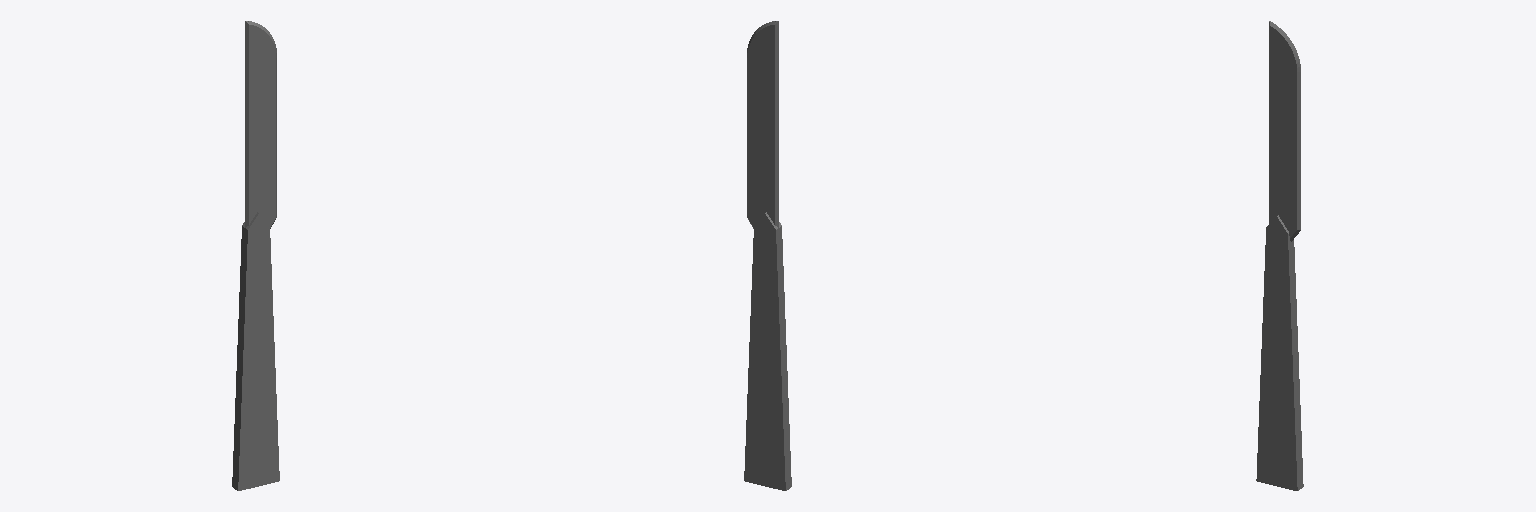
robot.urdf — knife:
<robot name="knife">
  <link name="knife">
    <visual>
      <origin rpy="0 0 0" xyz="0 0 -0.075"/>
      <!-- inertia correct!!! -->
      <inertial>
       <origin rpy="0 0 0" xyz="0.0 0 0"/>
       <mass value="0.5"/>
       <inertia ixx="0" ixy="0" ixz="0" iyy="0" iyz="0" izz="0"/>
    </inertial>
      <geometry>
        <mesh filename="knife.dae.obj"/>
      </geometry>
      <material name="c">
        <color rgba="0.5 0.5 0.5 1.0" />
      </material>
    </visual>
    <collision>
      <geometry>
        <mesh filename="knife.dae.obj"/>
        <!--<cylinder radius="0.0015" length="0.1"></cylinder>-->
      </geometry>
    </collision>
  </link>
</robot>

--- What the picture shows (computed from the rendered views, not written in the file) ---
The picture shows the robot from 3 angles, left to right: view 1: azimuth 30°, elevation 25°; view 2: azimuth 150°, elevation 25°; view 3: azimuth 330°, elevation 25°; orthographic projection.
Model knife with 1 links and 0 joints (none), rooted at knife, posed every joint at zero.
Visible links, largest first — view 1: knife; view 2: knife; view 3: knife.
Link boxes in pixels (left/top/right/bottom): knife: left=232, top=21, right=279, bottom=490; knife: left=744, top=21, right=791, bottom=490; knife: left=1256, top=21, right=1303, bottom=490.
Bounding box of the posed robot: 1.01 × 0.25 × 10.68 m (x, y, z).
1 mesh visuals loaded from 1 distinct referenced files (1 OBJ).